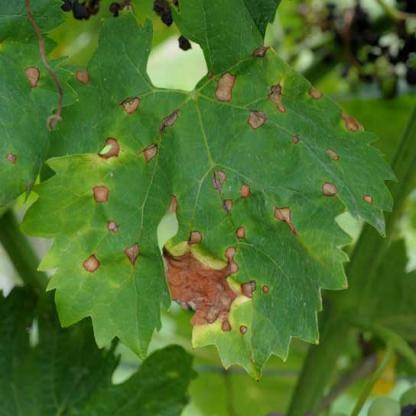grape leaf: (38, 11, 393, 383)
